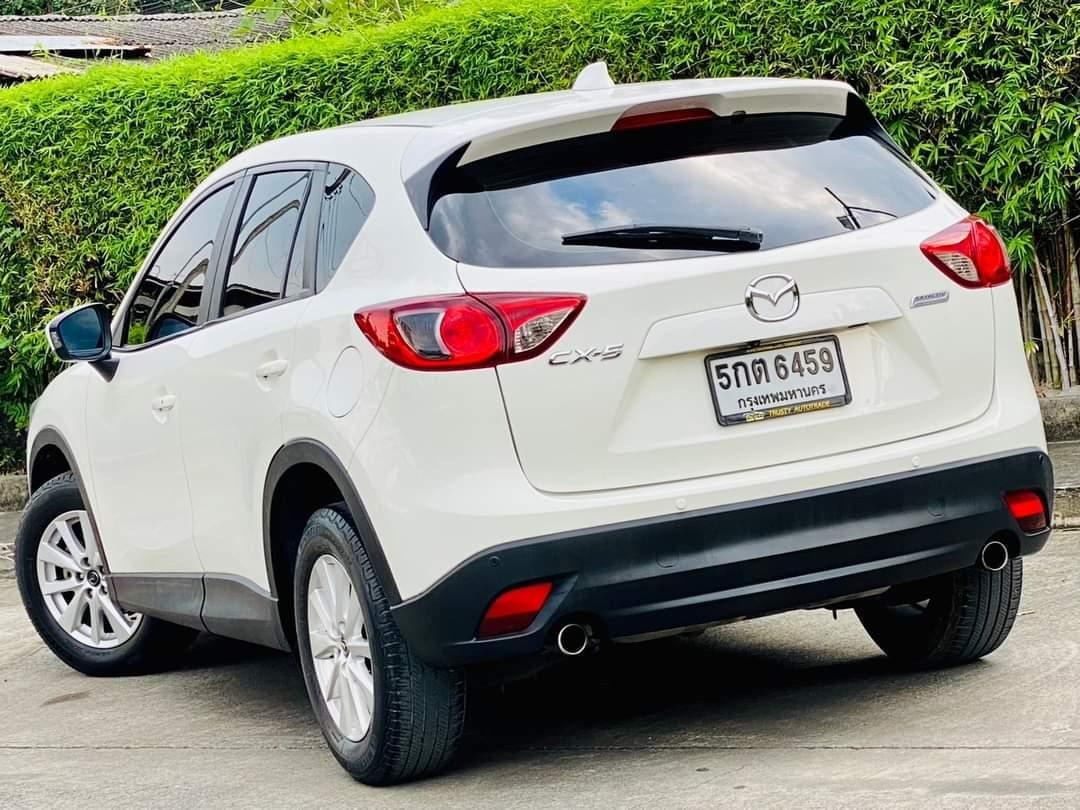license-plate: (695, 329, 859, 429)
